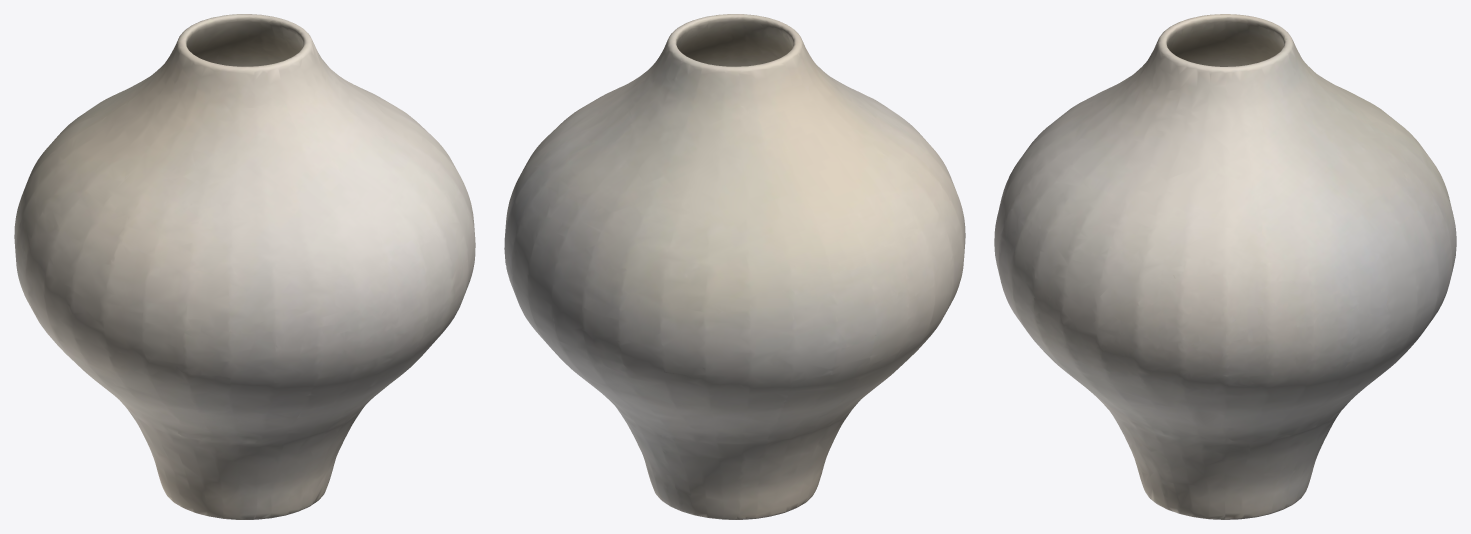
The model's file is organic-ceramic-vase.glb.
3 renders of one model, left to right at view 1: azimuth 30°, elevation 25°; view 2: azimuth 150°, elevation 25°; view 3: azimuth 270°, elevation 25°, orthographic.
Parts seen in each view (by area): view 1: world; view 2: world; view 3: world.
Part boxes in pixels (x1=…): world: x1=14, y1=14, x2=475, y2=519; world: x1=504, y1=14, x2=965, y2=519; world: x1=994, y1=14, x2=1456, y2=519.
Size of the model in its own units: 0.9367 by 1 by 0.937.
Materials: 1 (1 with a texture image).
